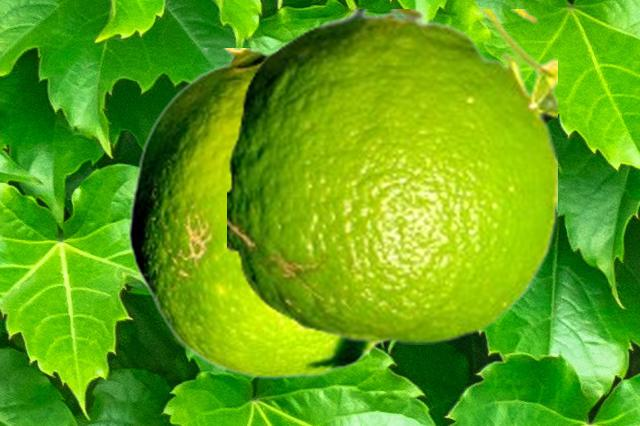dalandan: (227, 9, 556, 343), (128, 48, 386, 378)
